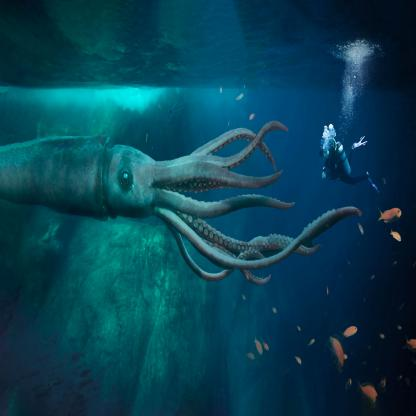colossal_squid: (0, 94, 317, 366)
